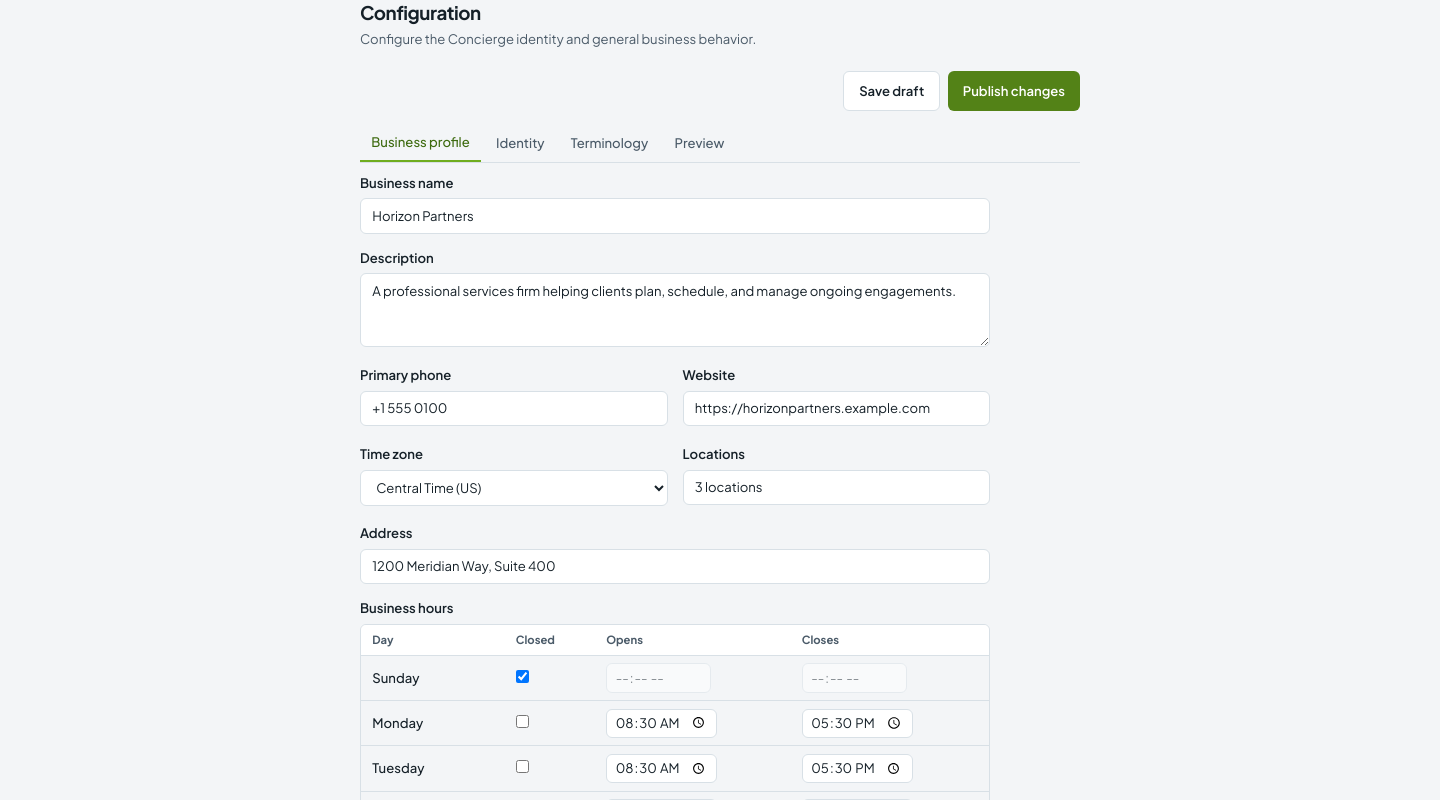
Test: ConfigurationPage › reports a failed publish as a failure, never as success
Expected: the field showing "Horizon Partners" is shown, [360,198,990,234]
Step 1. Click the button "Publish changes" → (1014, 91), box [948,71,1080,111]
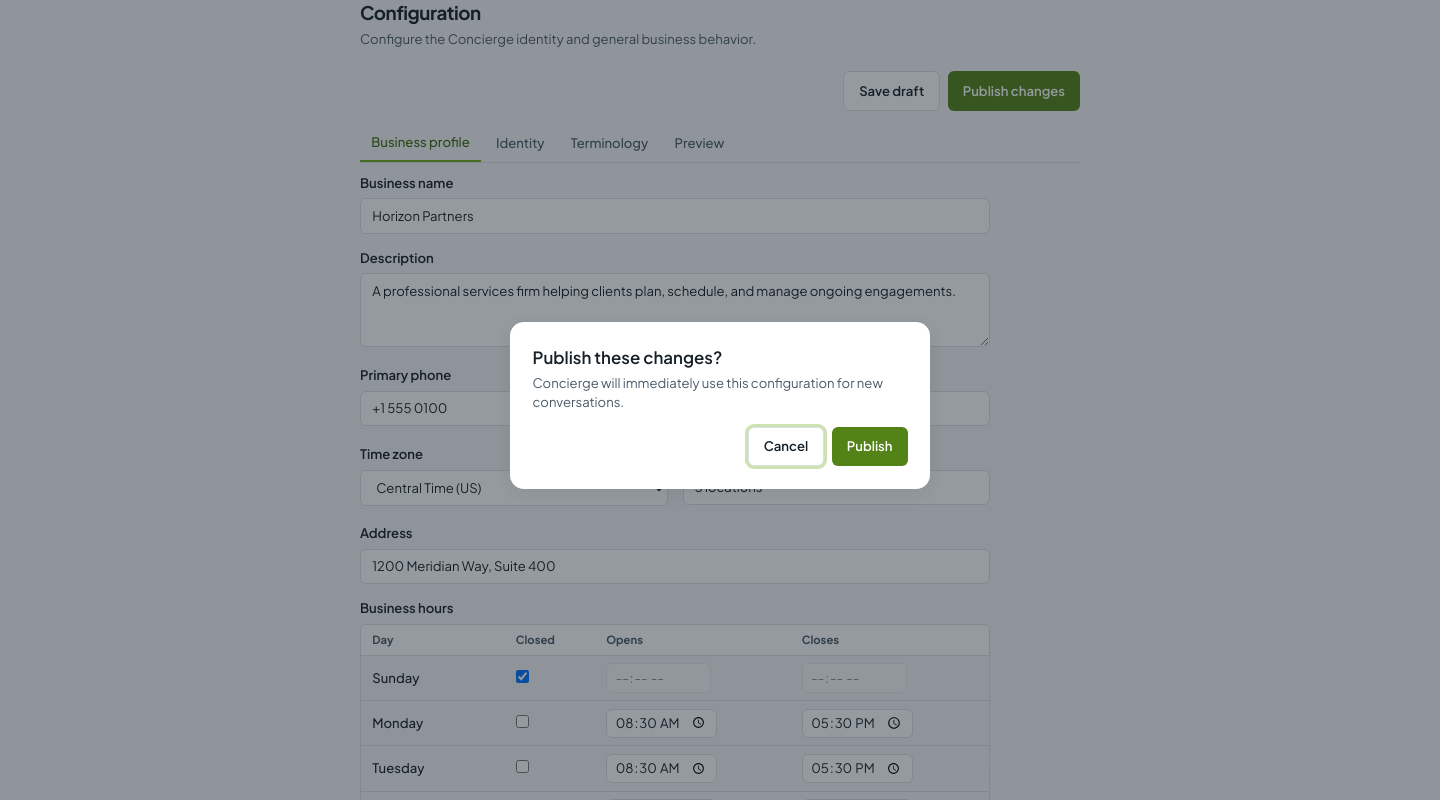
Step 2. Click the button "Publish" → (870, 446), box [832,426,908,466]
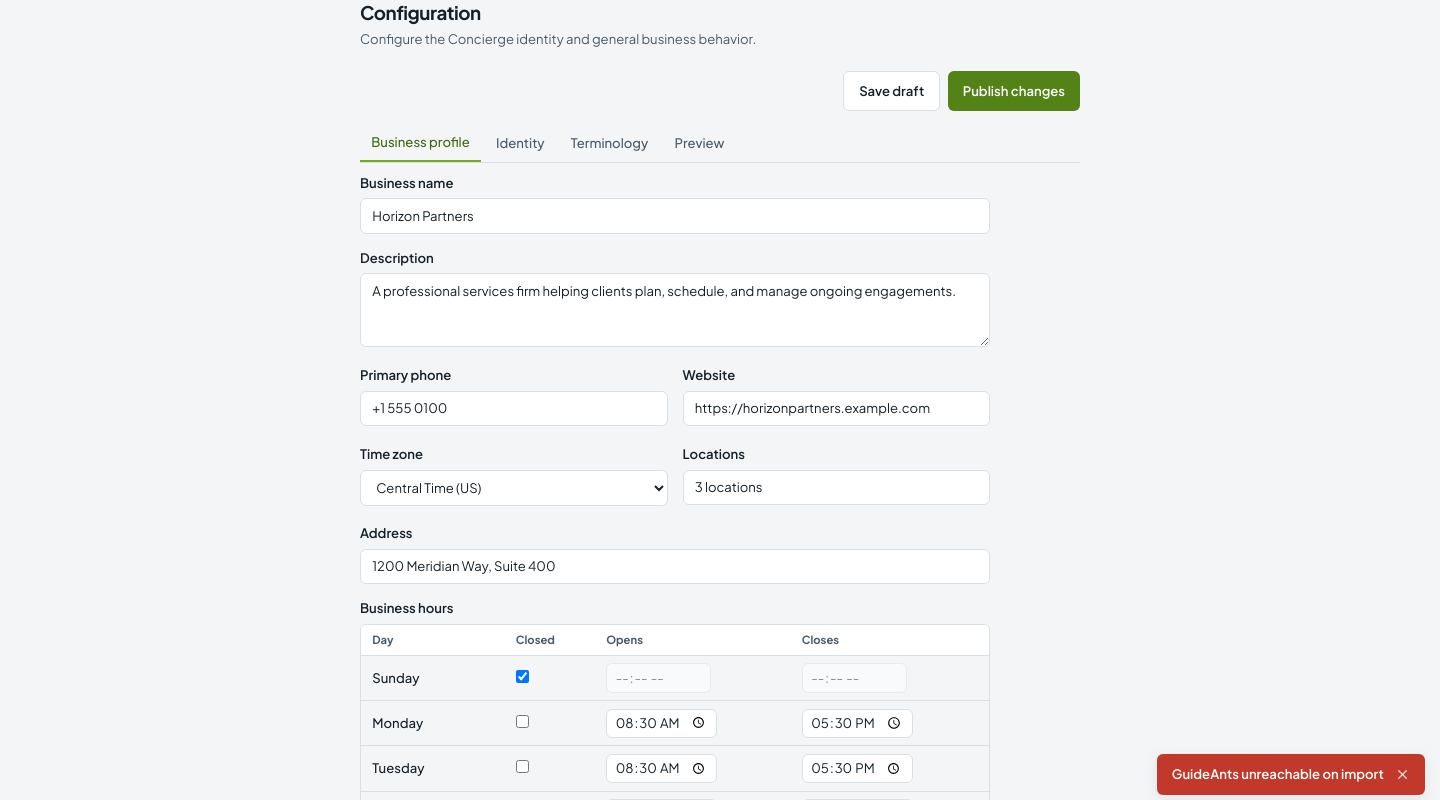
Result: the message shows "unreachable" at [1172,765,1384,782]
